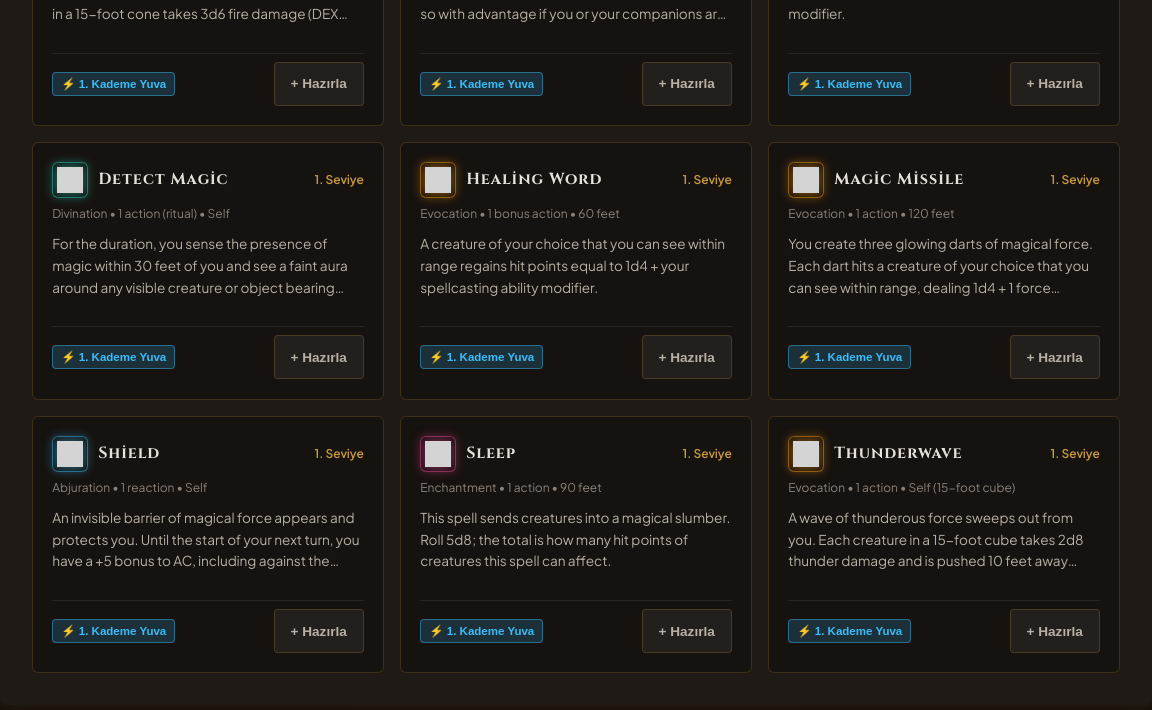
Test: Spellbook Component › renders interactive spell slots tracker and prevents preparing more spells than capacity
(page scrolled)
Click the button with aria-label "Magic Missile hazırla" at (1055, 357), box [1010,335,1100,379]
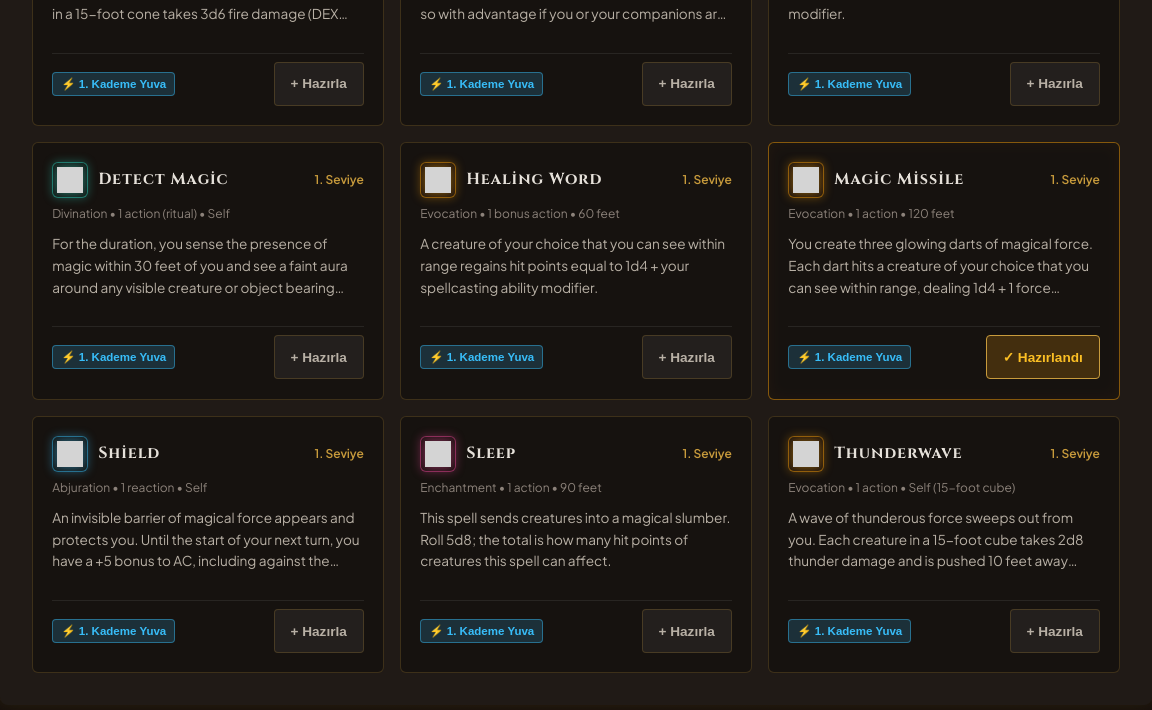
Expected: the button with aria-label "Magic Missile hazırla" reads "✓ Hazırlandı", [986,335,1100,379]
Click the button with aria-label "Shield hazırla" at (319, 631), box [274,609,364,653]
(page scrolled)
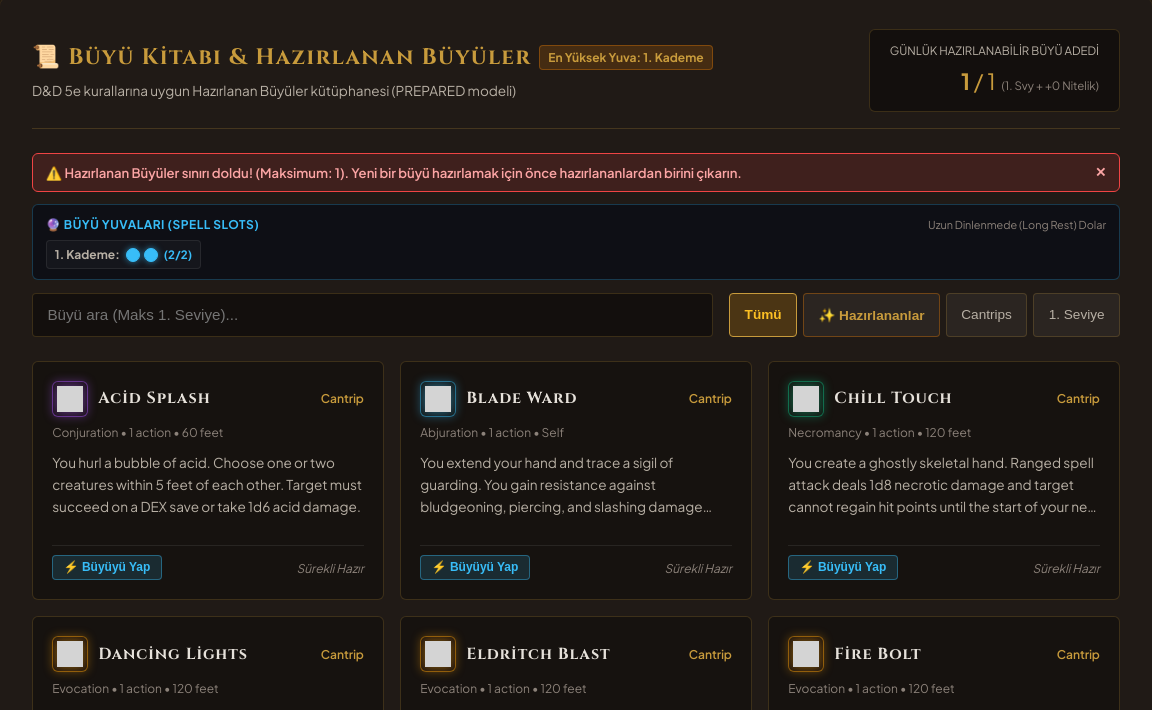
Expected: the button "Shield hazırla" does not show "✓ Hazırlandı"
Expected: the text "sınırı doldu" is shown, [46,164,742,182]
